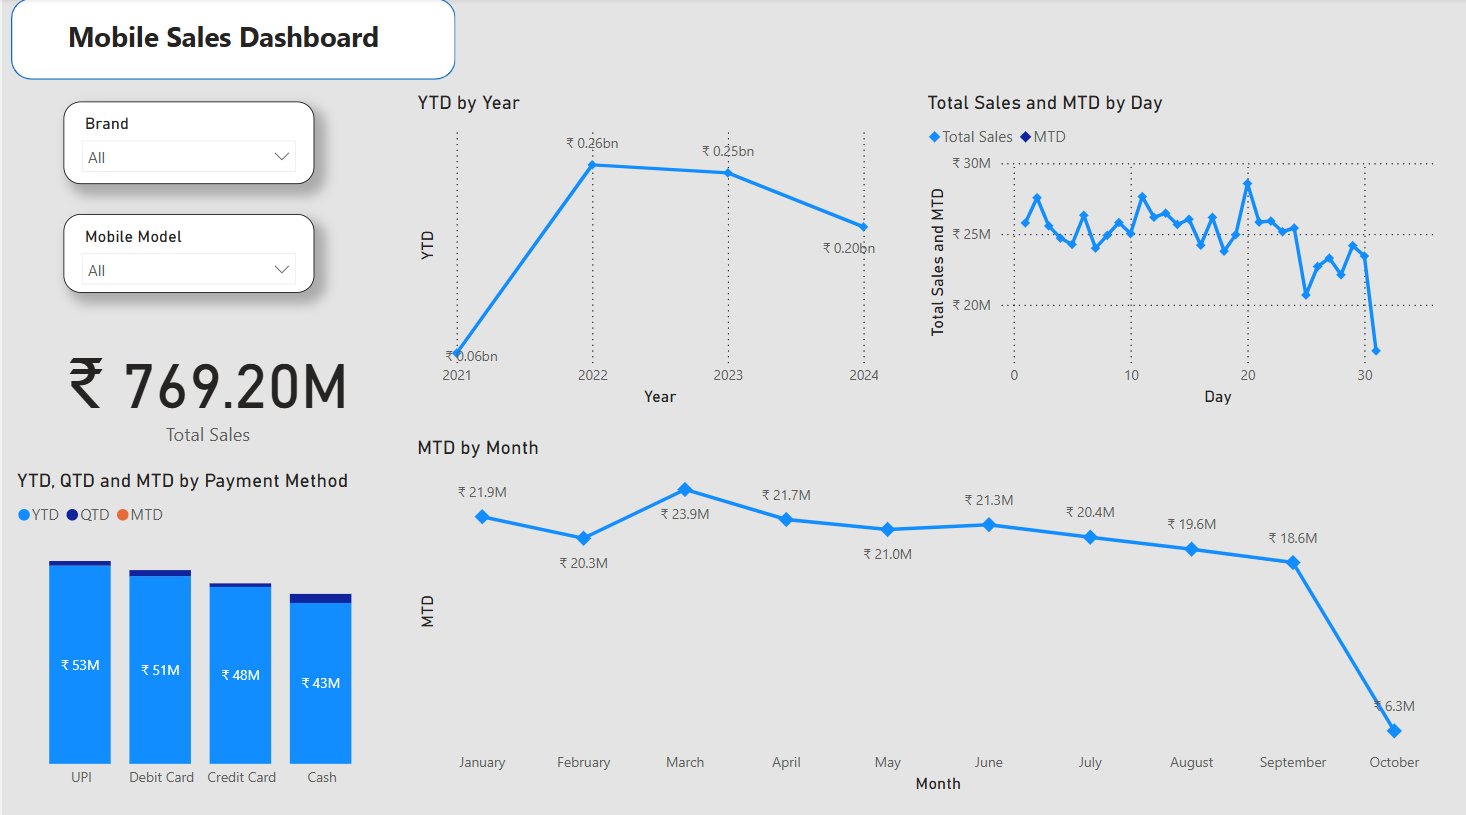

Layout of this report page (visuals, bound fields, positions):
{"tool":"powerbi","page":{"name":"MTD","canvas":[1280,720],"ordinal":1},"visuals":[{"type":"shape","box":[7.6,0,387.6,71.2],"z":0},{"type":"textbox","box":[51.7,11.7,288.3,60],"z":1000},{"type":"slicer","fields":{"Values":["Mobile_Sales_Data.Brand"]},"box":[53.3,90,218.3,71.7],"z":2000},{"type":"slicer","fields":{"Values":["Mobile_Sales_Data.Mobile Model"]},"box":[53.3,188.3,218.3,68.3],"z":3000},{"type":"lineChart","fields":{"Category":["Custom Calender.Date.Variation.Date Hierarchy.Day"],"Y":["Mobile_Sales_Data.Total Sales","Mobile_Sales_Data.MTD"]},"box":[801.7,81.7,451.7,278.3],"z":4000},{"type":"lineChart","fields":{"Category":["Custom Calender.Date.Variation.Date Hierarchy.Month"],"Y":["Mobile_Sales_Data.MTD"]},"box":[356.7,381.7,896.7,315],"z":5000},{"type":"lineChart","fields":{"Category":["Custom Calender.Date.Variation.Date Hierarchy.Year","Custom Calender.Date.Variation.Date Hierarchy.Quarter"],"Y":["Mobile_Sales_Data.YTD"]},"box":[356.7,81.7,411.7,278.3],"z":6000},{"type":"columnChart","fields":{"Category":["Mobile_Sales_Data.Payment Method"],"Y":["Mobile_Sales_Data.YTD","Mobile_Sales_Data.QTD","Mobile_Sales_Data.MTD"]},"box":[8.3,410,331.7,286.7],"z":7000},{"type":"card","fields":{"Values":["Mobile_Sales_Data.Total Sales"]},"box":[18.3,288.3,321.7,105],"z":8000}]}

Visuals, with their boxes in screenshot pixels (x1, y1, x2, y2), scaled from the page's 1280x720 canvas onto the 1466x815 screenshot:
shape: region(9, 0, 453, 81)
textbox: region(59, 13, 389, 81)
slicer - Mobile_Sales_Data.Brand: region(61, 102, 311, 183)
slicer - Mobile_Sales_Data.Mobile Model: region(61, 213, 311, 290)
lineChart - Custom Calender.Date.Variation.Date Hierarchy.Day x Mobile_Sales_Data.Total Sales: region(918, 92, 1436, 408)
lineChart - Custom Calender.Date.Variation.Date Hierarchy.Month x Mobile_Sales_Data.MTD: region(409, 432, 1436, 789)
lineChart - Custom Calender.Date.Variation.Date Hierarchy.Year x Custom Calender.Date.Variation.Date Hierarchy.Quarter: region(409, 92, 880, 408)
columnChart - Mobile_Sales_Data.Payment Method x Mobile_Sales_Data.YTD: region(10, 464, 389, 789)
card - Mobile_Sales_Data.Total Sales: region(21, 326, 389, 445)
